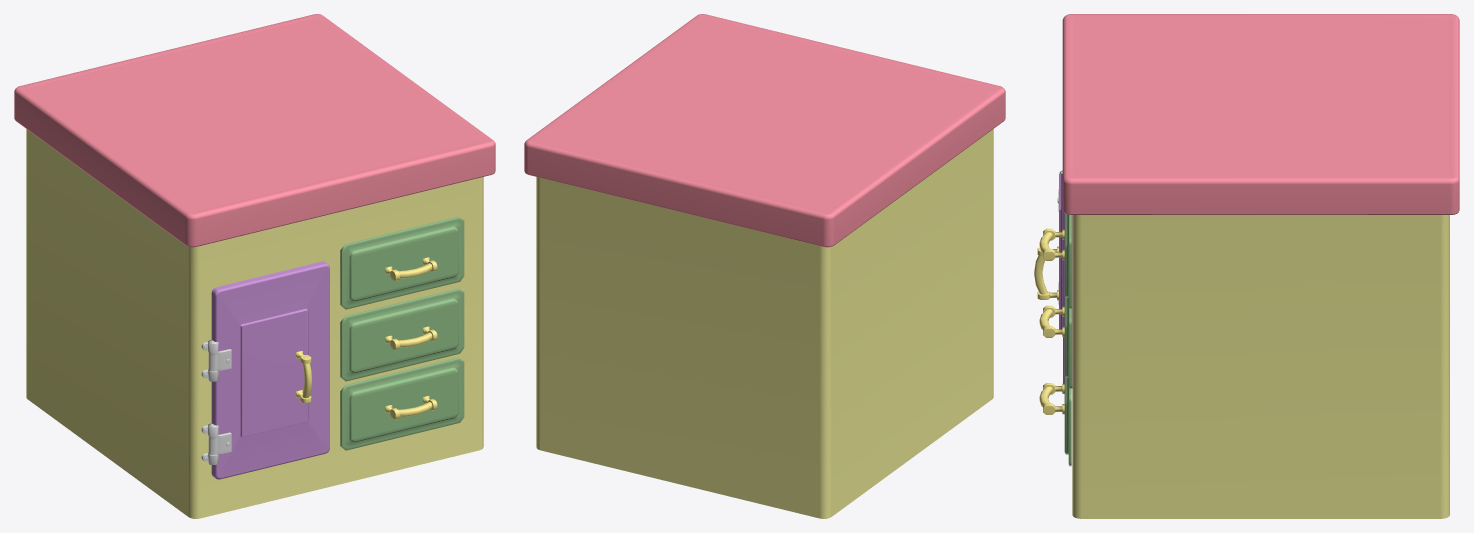
File: Counter_Var1_Full.fbx
3 views of the same model, side by side, from view 1: azimuth 30°, elevation 25°; view 2: azimuth 150°, elevation 25°; view 3: azimuth 270°, elevation 25° (orthographic). The views are drawn at different scales.
Parts seen in each view (by area): view 1: BaseCounter, CounterDoor2, SmallCounterDoor_Door2, SmallCounterDoor_Door1, SmallCounterDoor_Door3, Hinge2, Hinge1; view 2: BaseCounter; view 3: BaseCounter, CounterDoor2, SmallCounterDoor_Door1, SmallCounterDoor_Door2, SmallCounterDoor_Door3, CounterDoor_Handle, CounterDoor_Handle2, CounterDoor_Handle1, CounterDoor_Handle3.
Boxes of the visible parts, bbox=[...] form: BaseCounter: bbox=[14, 14, 495, 518]; CounterDoor2: bbox=[211, 261, 329, 479]; SmallCounterDoor_Door2: bbox=[340, 288, 464, 381]; SmallCounterDoor_Door1: bbox=[340, 216, 464, 309]; SmallCounterDoor_Door3: bbox=[340, 357, 464, 450]; Hinge2: bbox=[208, 340, 231, 381]; Hinge1: bbox=[208, 423, 231, 464]; BaseCounter: bbox=[524, 14, 1005, 518]; BaseCounter: bbox=[1062, 14, 1459, 518]; CounterDoor2: bbox=[1059, 173, 1072, 388]; SmallCounterDoor_Door1: bbox=[1064, 213, 1071, 309]; SmallCounterDoor_Door2: bbox=[1064, 296, 1071, 389]; SmallCounterDoor_Door3: bbox=[1064, 376, 1071, 466]; CounterDoor_Handle: bbox=[1034, 246, 1058, 300]; CounterDoor_Handle2: bbox=[1039, 228, 1064, 260]; CounterDoor_Handle1: bbox=[1039, 305, 1064, 337]; CounterDoor_Handle3: bbox=[1039, 383, 1064, 414].
Size of the model in its own units: 1804 by 1717 by 1933.
